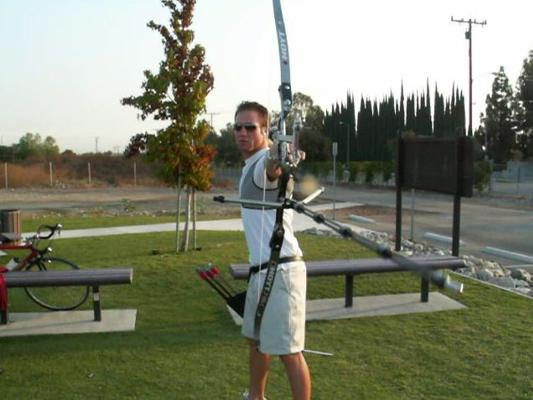person: (233, 101, 319, 400)
